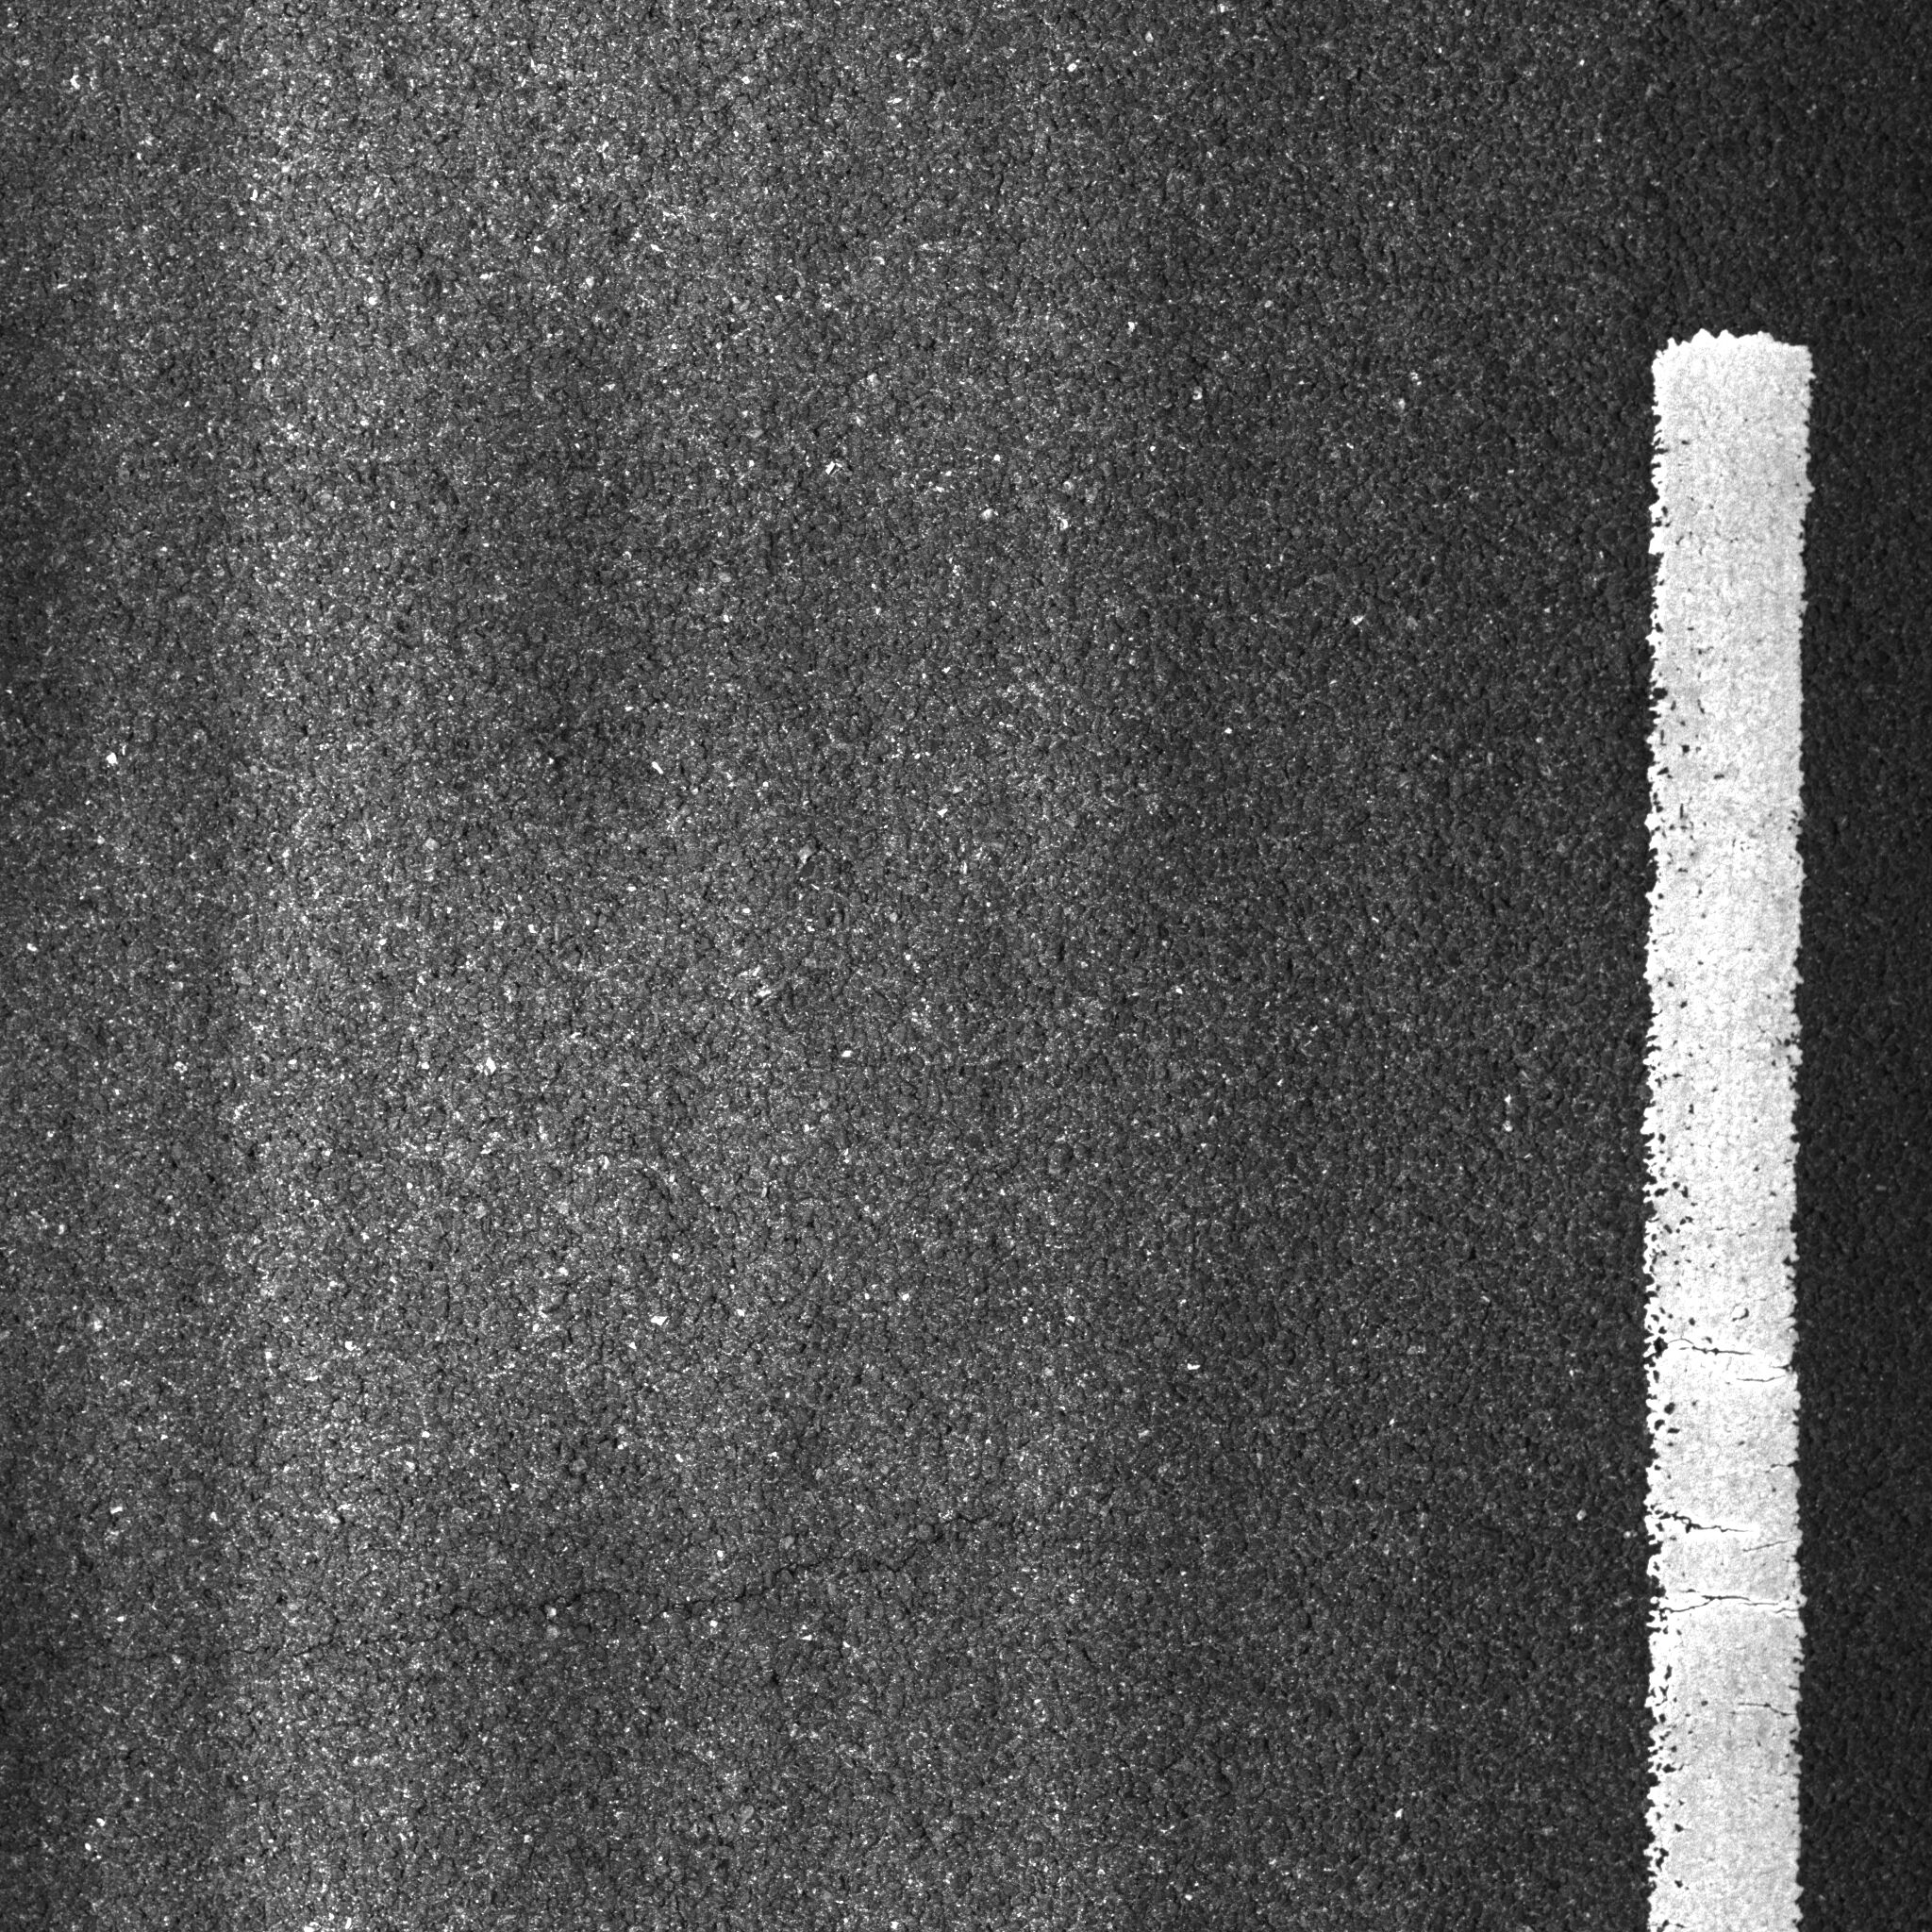transverse: (209, 1431, 1442, 1743)
